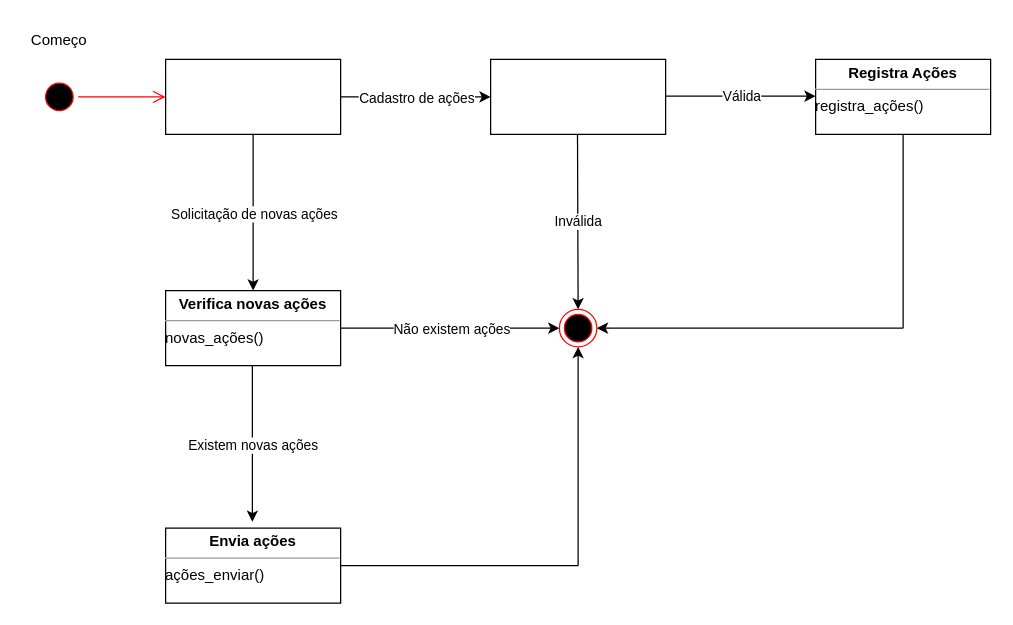
This 1013x625 diagram has some shape labels left out. Each missing label, with the box of its shape:
Ações novo(): (164, 58, 341, 134)
Verifica identificação verif_identif(): (489, 58, 666, 134)
